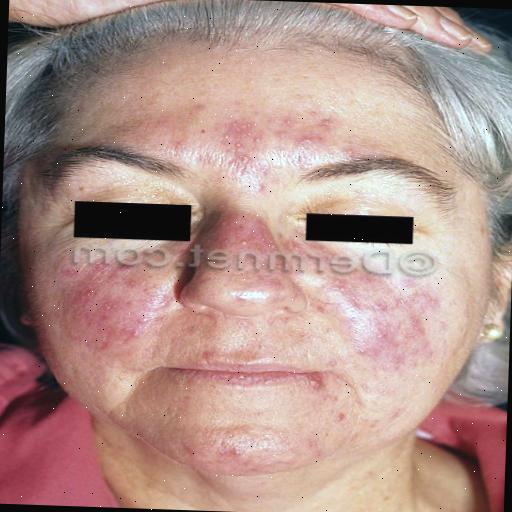Skin_Lesion: (86, 264, 160, 340), (312, 267, 380, 305), (220, 105, 261, 155), (356, 313, 396, 358), (302, 101, 340, 147), (294, 369, 340, 400), (224, 214, 264, 244), (250, 274, 292, 302), (210, 440, 248, 464), (96, 365, 114, 401), (42, 0, 83, 13), (422, 286, 442, 310), (310, 438, 324, 461), (386, 406, 402, 426), (408, 318, 424, 336), (334, 406, 346, 424), (345, 430, 356, 448)
